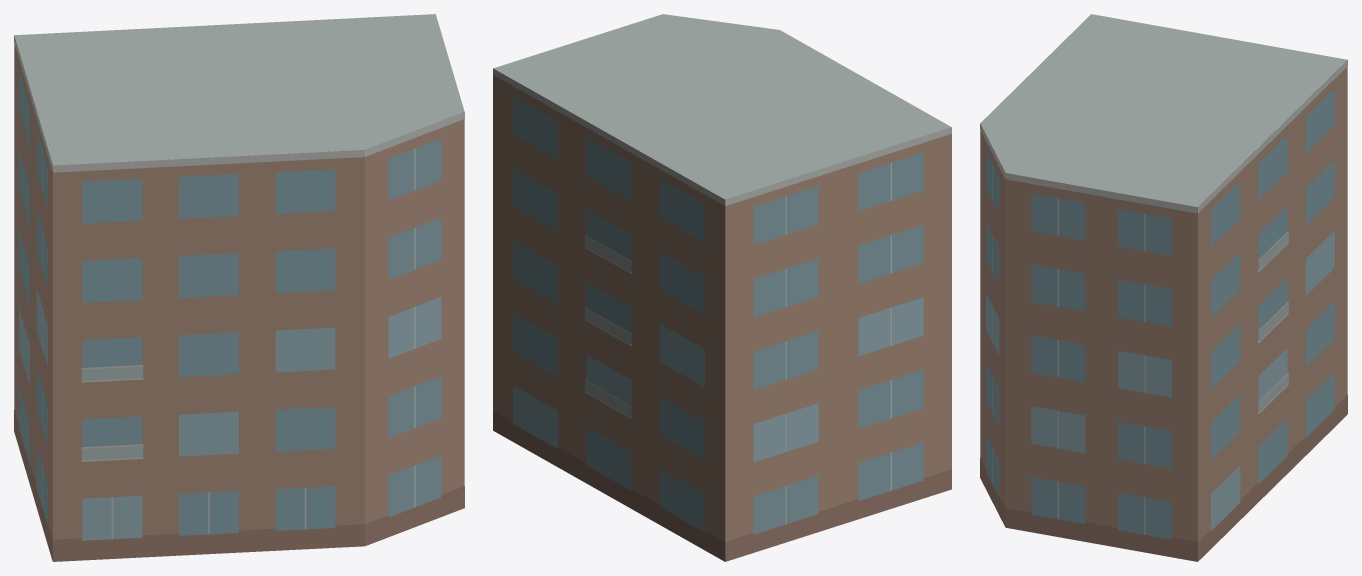
The model's file is survey-upis-32524750.glb.
3 views of the same model, side by side, from view 1: azimuth 30°, elevation 25°; view 2: azimuth 150°, elevation 25°; view 3: azimuth 270°, elevation 25° (orthographic). The views are drawn at different scales.
Parts seen in each view (by area): view 1: survey-upis-32524750.tmp; view 2: survey-upis-32524750.tmp; view 3: survey-upis-32524750.tmp.
Part boxes in pixels (box(x1,y1,x2,y2)): survey-upis-32524750.tmp: box(14, 14, 464, 561); survey-upis-32524750.tmp: box(493, 14, 951, 561); survey-upis-32524750.tmp: box(980, 14, 1347, 561).
Size of the model in its own units: 15.9 by 13.6 by 12.78.
